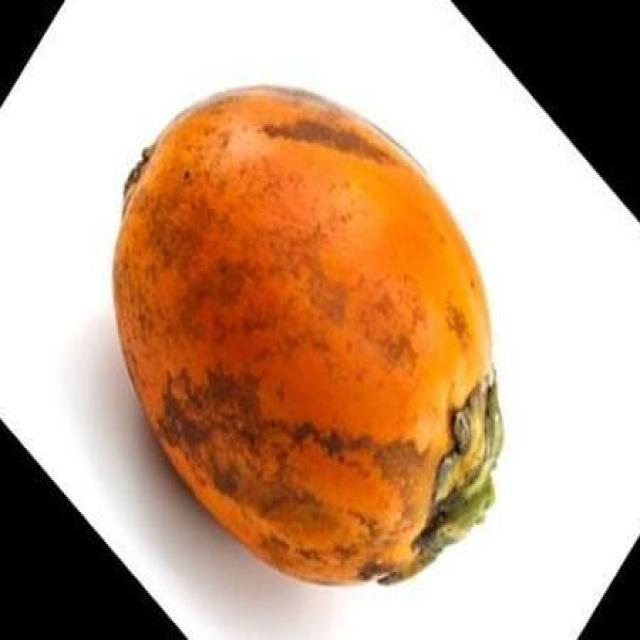good: (111, 85, 505, 587)
